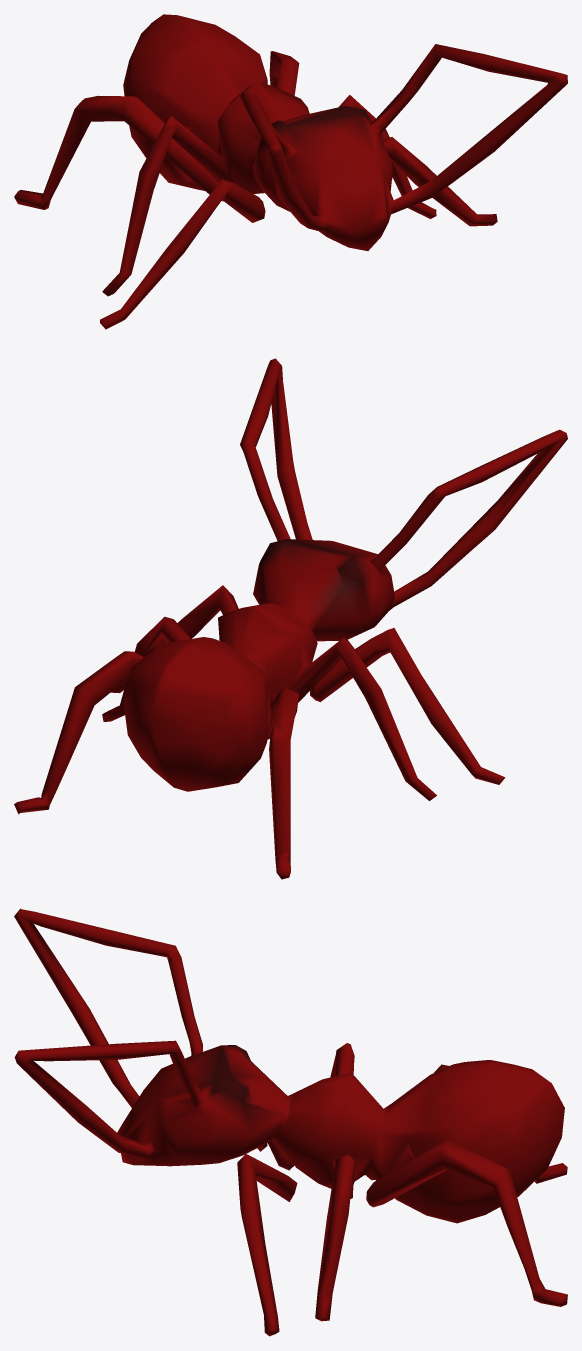
File: gen3d-red-ant-lod1.glb
The picture shows the model from 3 angles, top to bottom: view 1: azimuth 30°, elevation 25°; view 2: azimuth 150°, elevation 25°; view 3: azimuth 270°, elevation 25°; orthographic projection.
Parts seen in each view (by area): view 1: part_0; view 2: part_0; view 3: part_0.
Part boxes in pixels (x1=…): part_0: x1=14, y1=14, x2=567, y2=329; part_0: x1=14, y1=358, x2=567, y2=879; part_0: x1=14, y1=908, x2=567, y2=1336.
Size of the model in its own units: 1.63 by 0.9996 by 1.91.
